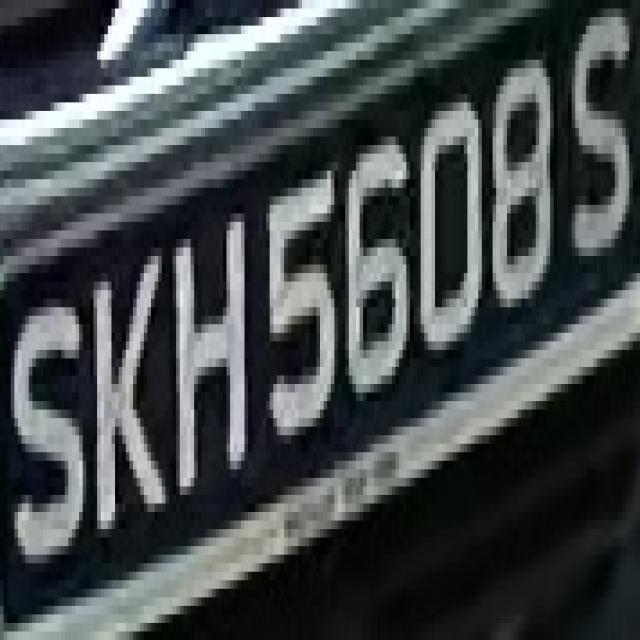0: (406, 94, 489, 375)
5: (262, 136, 342, 461)
6: (331, 120, 413, 426)
8: (486, 43, 558, 350)
H: (166, 196, 256, 504)
K: (90, 230, 172, 580)
S: (11, 264, 90, 598), (561, 25, 640, 298)
